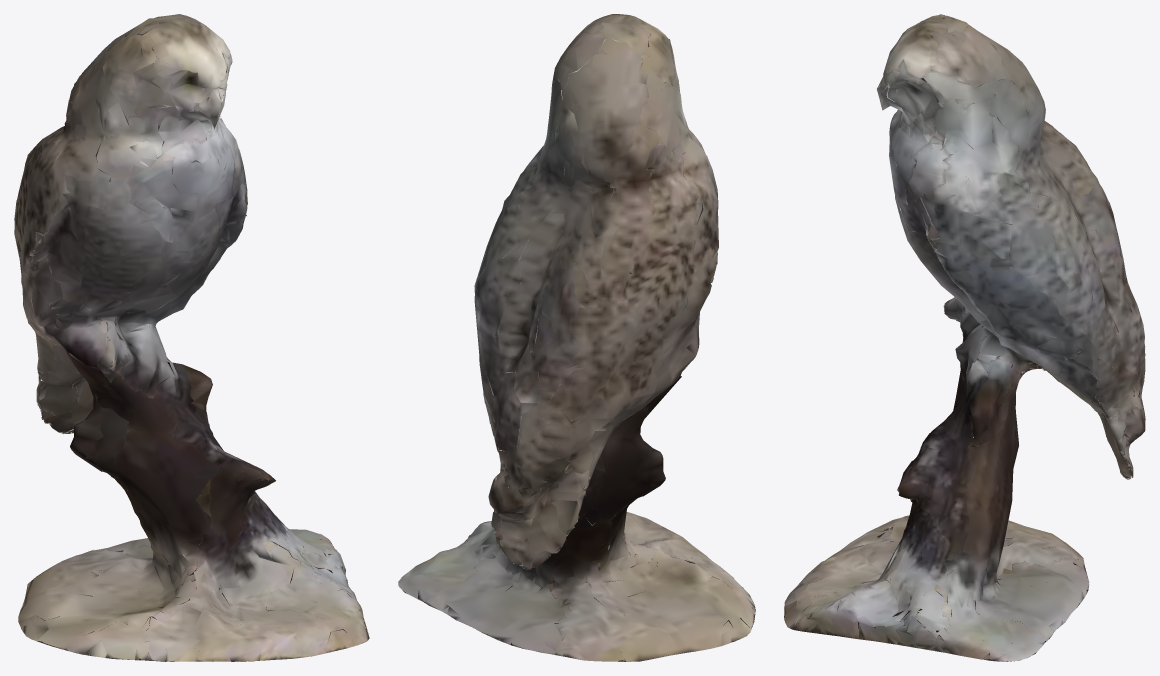
Rendered from ave_snowy_owl.glb.
The picture shows the model from 3 angles, left to right: view 1: azimuth 30°, elevation 25°; view 2: azimuth 150°, elevation 25°; view 3: azimuth 270°, elevation 25°; orthographic projection. The views are drawn at different scales.
Parts seen in each view (by area): view 1: material_0-material; view 2: material_0-material; view 3: material_0-material.
Boxes of the visible parts, x1,y1,x2,y2 form: material_0-material: (14, 14, 369, 661); material_0-material: (398, 14, 755, 661); material_0-material: (784, 14, 1145, 661).
Bounding box in the file's own units: 0.3475 × 0.6009 × 0.3559.
1 material, 1 textured.
